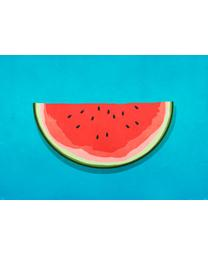watermelon: (31, 101, 175, 171)
